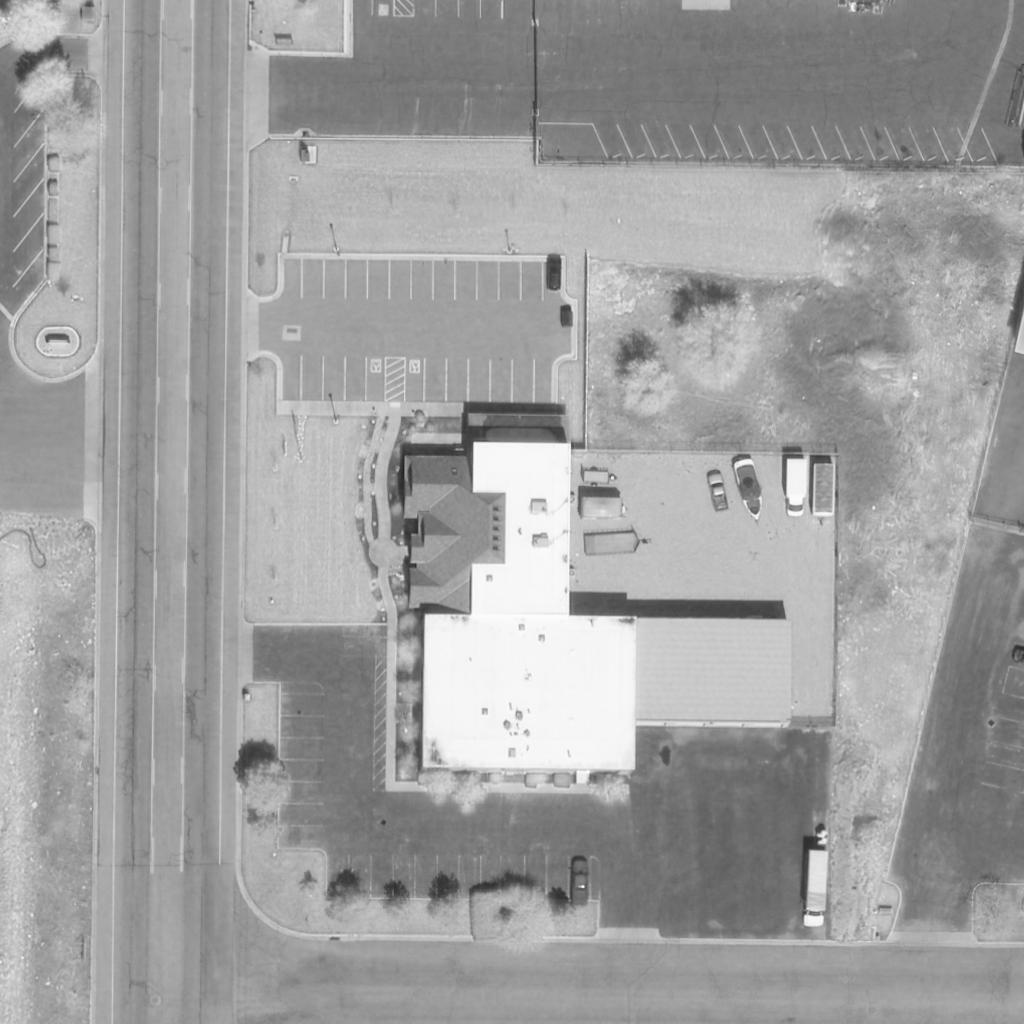vehicle: (734, 459, 766, 521), (804, 853, 828, 927), (814, 463, 836, 529), (787, 459, 807, 517), (571, 858, 589, 908), (707, 473, 729, 511)
